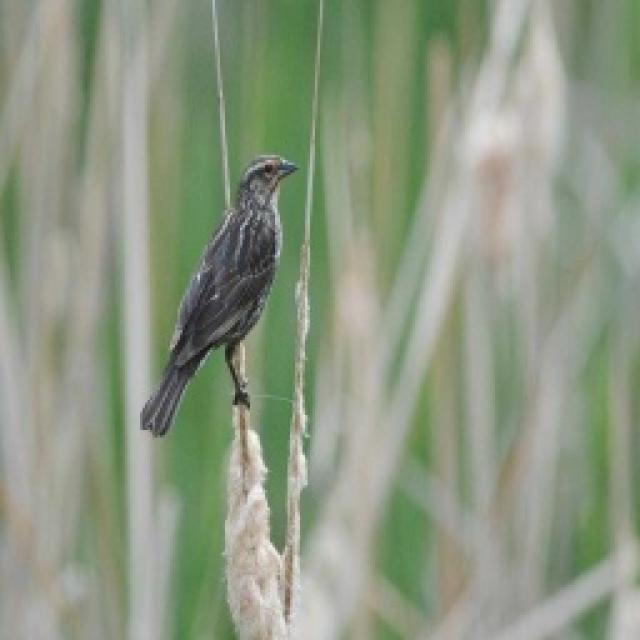sparrow: (135, 150, 300, 438)
